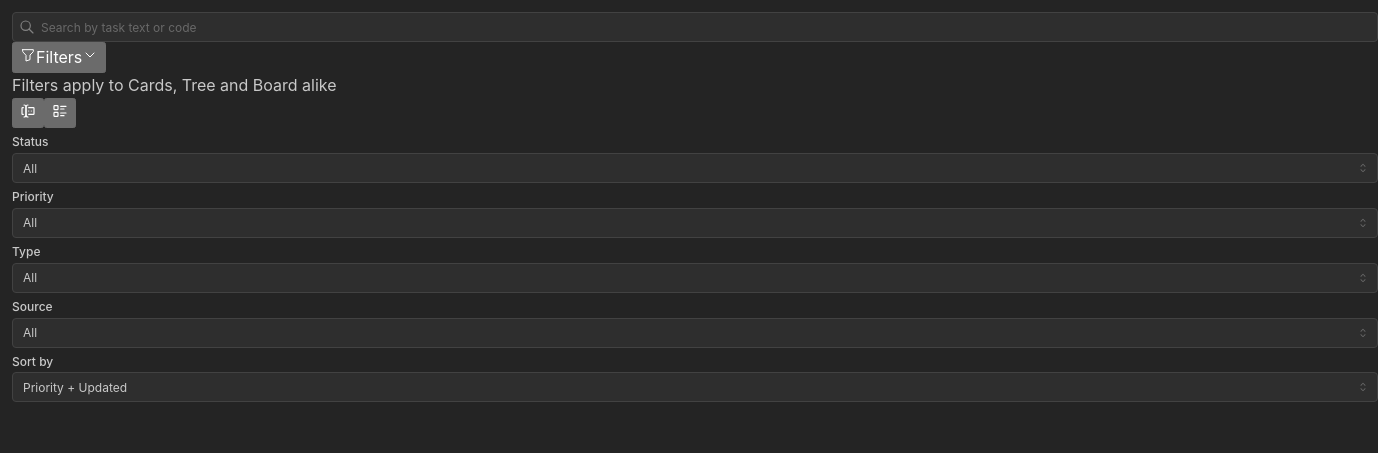
Test: TaskFilters — sk-285.1.18 one dropdown per filter dimension › options carry their explanation as a visible second line
The image size is (1378, 453).
Click the field labelled "Status" at (695, 168), box [12, 153, 1377, 183]
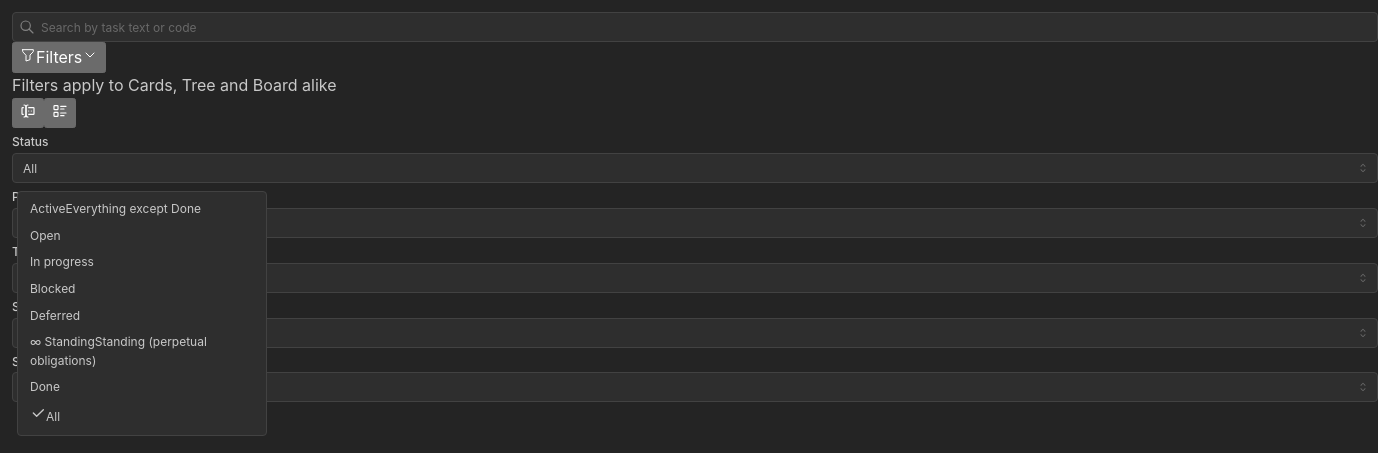
Now the option "Everything except Done" is shown, box [30, 201, 201, 216]
